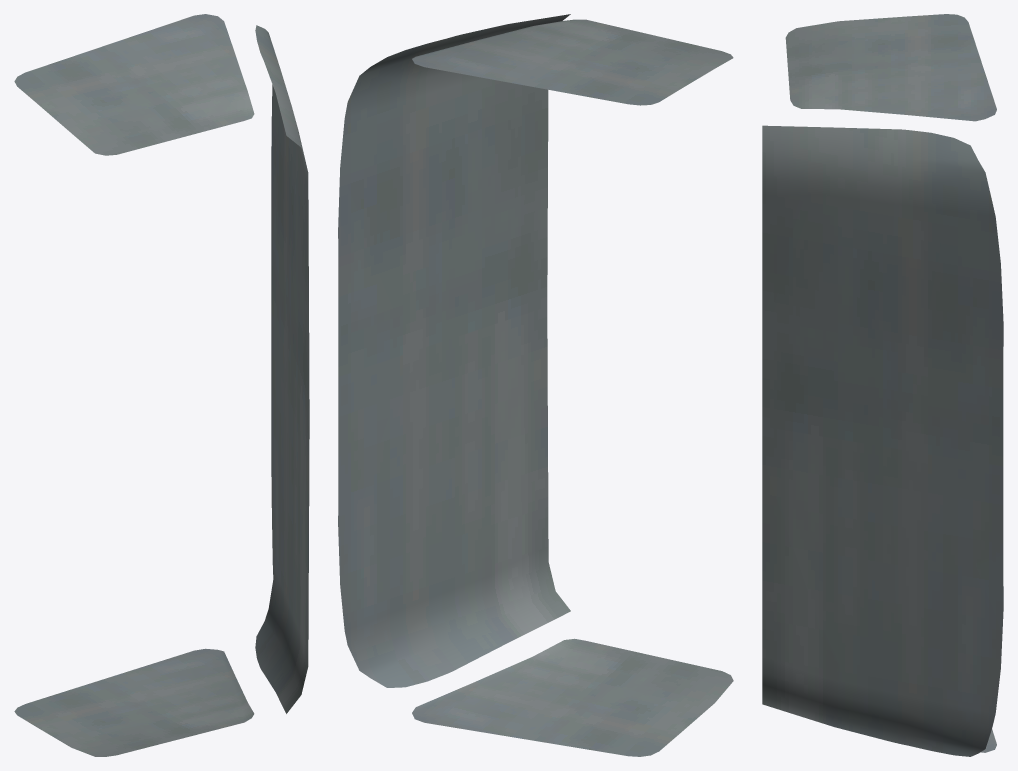
File: windows.obj
The picture shows the model from 3 angles, left to right: view 1: azimuth 30°, elevation 25°; view 2: azimuth 150°, elevation 25°; view 3: azimuth 270°, elevation 25°; orthographic projection. The views are drawn at different scales.
Visible parts, largest first — view 1: windows; view 2: windows; view 3: windows.
Part boxes in pixels (left/top/right/bottom): windows: left=14, top=14, right=309, bottom=756; windows: left=338, top=14, right=733, bottom=756; windows: left=762, top=14, right=1003, bottom=756.
Bounding box in the file's own units: 1.08 × 2.31 × 0.7948.
1 material, 1 textured.
